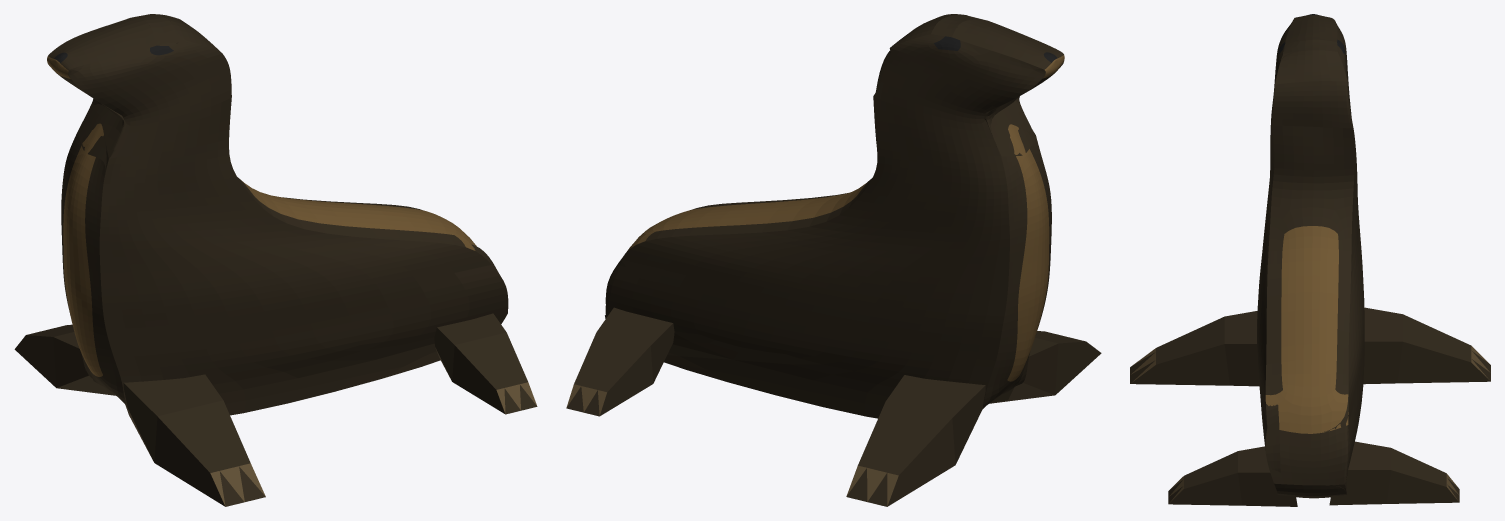
Rendered from SeaLion.fbx.
3 renders of one model, left to right at view 1: azimuth 30°, elevation 25°; view 2: azimuth 150°, elevation 25°; view 3: azimuth 270°, elevation 25°, orthographic. The views are drawn at different scales.
Visible parts, largest first — view 1: SeaLion, Flippers, Flippers.002, Flippers.001; view 2: SeaLion, Flippers.001, Flippers.003, Flippers; view 3: SeaLion, Flippers.001, Flippers, Flippers.003, Flippers.002.
Boxes of the visible parts, <box> form: SeaLion: <box>47,14,508,415</box>; Flippers: <box>123,374,265,506</box>; Flippers.002: <box>434,313,537,414</box>; Flippers.001: <box>14,324,115,395</box>; SeaLion: <box>605,14,1064,418</box>; Flippers.001: <box>846,375,985,506</box>; Flippers.003: <box>566,307,674,416</box>; Flippers: <box>989,331,1101,403</box>; SeaLion: <box>1257,14,1364,498</box>; Flippers.001: <box>1363,307,1490,384</box>; Flippers: <box>1130,311,1259,386</box>; Flippers.003: <box>1329,441,1459,505</box>; Flippers.002: <box>1168,446,1297,506</box>.
Bounding box in the file's own units: 266 × 235 × 226.
